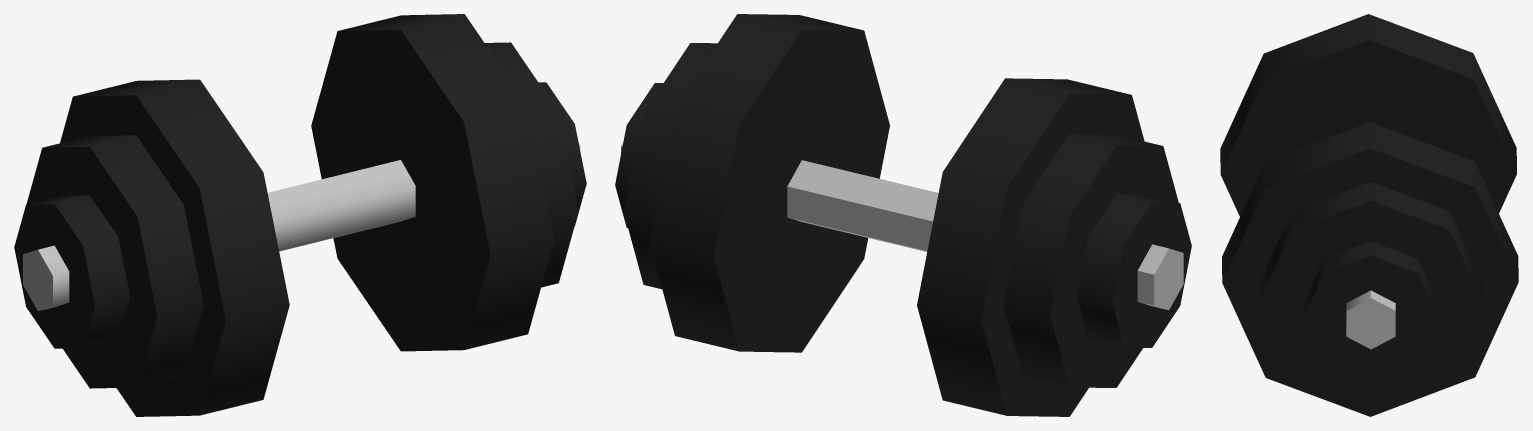
File: training_item_020.glb
3 renders of one model, left to right at view 1: azimuth 30°, elevation 25°; view 2: azimuth 150°, elevation 25°; view 3: azimuth 270°, elevation 25°, orthographic. The views are drawn at different scales.
Visible parts, largest first — view 1: training_item_020; view 2: training_item_020; view 3: training_item_020.
Part boxes in pixels (box(x1,y1,x2,y2)): training_item_020: box(14, 14, 586, 416); training_item_020: box(615, 14, 1191, 416); training_item_020: box(1220, 14, 1518, 416).
Size of the model in its own units: 0.3994 by 0.2318 by 0.2333.
Materials: 1 (1 with a texture image).
